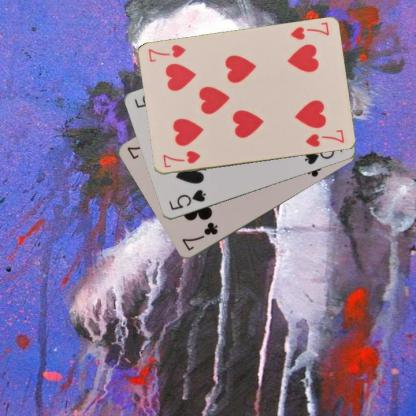5s: (165, 187, 207, 212)
7c: (179, 219, 220, 252)
7h: (288, 20, 330, 42), (160, 148, 201, 169)
